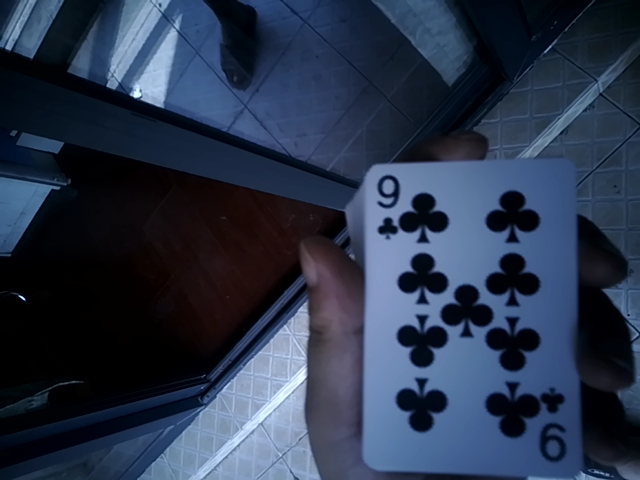mh 9: (347, 152, 629, 480)
